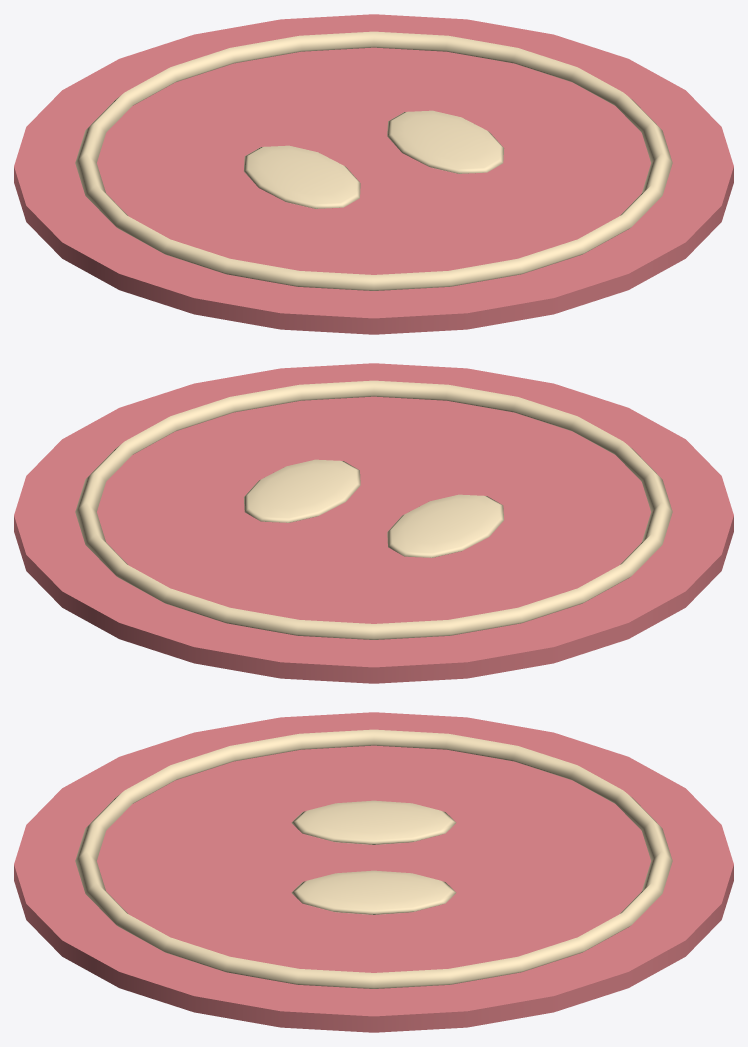
Rendered from prop-hall-queue-tile.glb.
3 renders of one model, top to bottom at view 1: azimuth 30°, elevation 25°; view 2: azimuth 150°, elevation 25°; view 3: azimuth 270°, elevation 25°, orthographic.
Parts seen in each view (by area): view 1: queue-tile; view 2: queue-tile; view 3: queue-tile.
Part boxes in pixels (<box>): queue-tile: <box>14,14,733,334</box>; queue-tile: <box>14,363,733,683</box>; queue-tile: <box>14,712,733,1032</box>.
Size of the model in its own units: 2 by 0.09 by 2.
